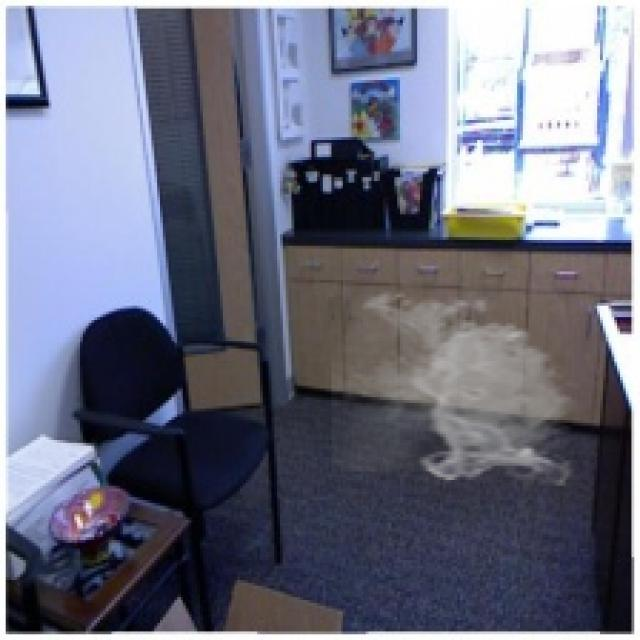smoke: (331, 286, 580, 486)
